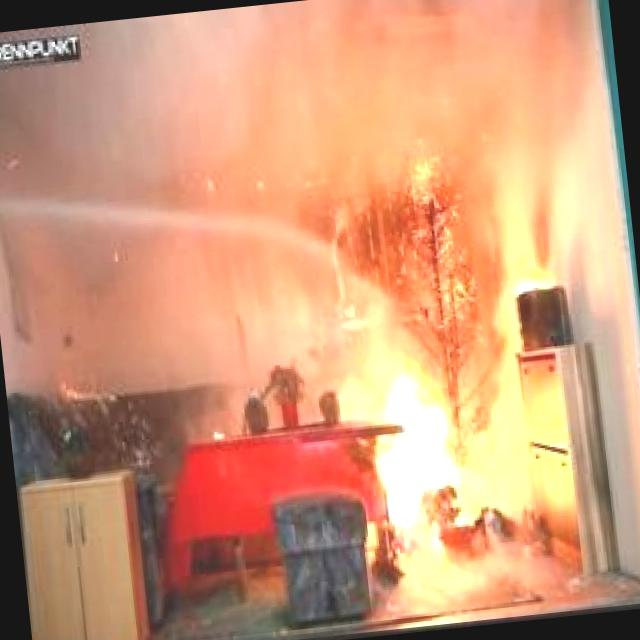fire: (352, 350, 503, 521)
